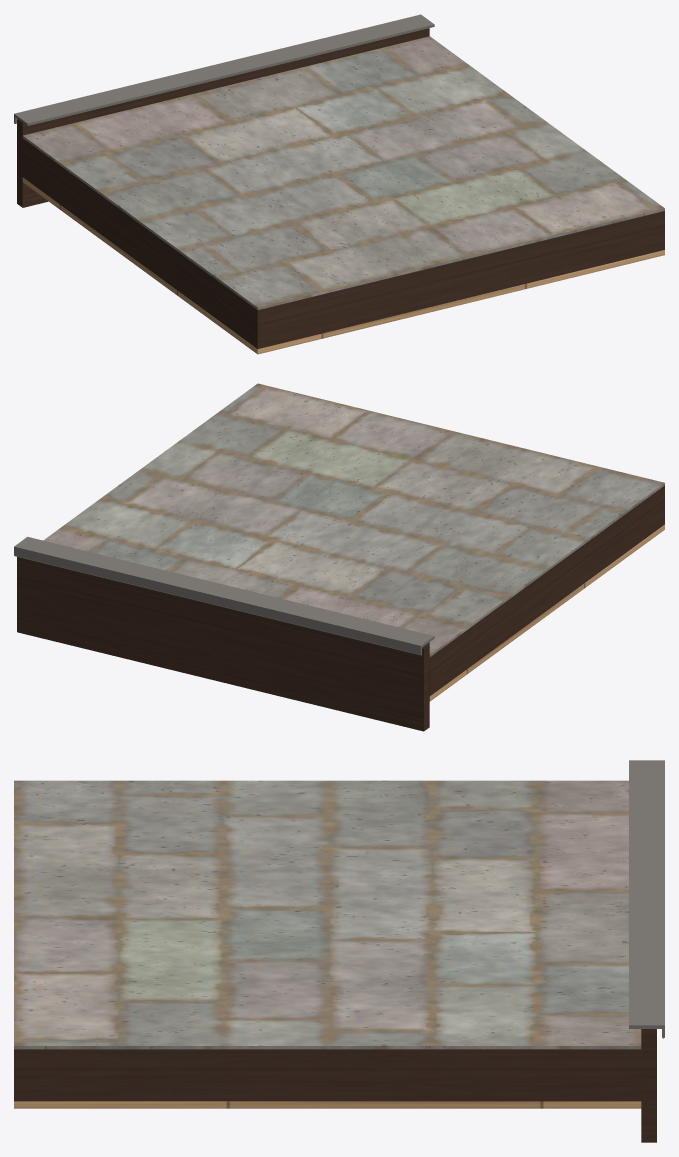
Rendered from deck_e0010.glb.
3 views of the same model, one above another, from view 1: azimuth 30°, elevation 25°; view 2: azimuth 150°, elevation 25°; view 3: azimuth 270°, elevation 25° (orthographic). The views are drawn at different scales.
Parts seen in each view (by area): view 1: deck_e0010_roofdeck, deck_e0010_fascia, deck_e0010_metal, deck_e0010_ceiling; view 2: deck_e0010_roofdeck, deck_e0010_fascia, deck_e0010_metal, deck_e0010_ceiling; view 3: deck_e0010_roofdeck, deck_e0010_fascia, deck_e0010_metal, deck_e0010_ceiling.
Boxes of the visible parts, <box> form: deck_e0010_roofdeck: <box>22,36,664,309</box>; deck_e0010_fascia: <box>17,28,664,348</box>; deck_e0010_metal: <box>14,14,434,125</box>; deck_e0010_ceiling: <box>22,177,664,354</box>; deck_e0010_roofdeck: <box>43,383,664,656</box>; deck_e0010_fascia: <box>17,485,664,731</box>; deck_e0010_metal: <box>14,536,434,655</box>; deck_e0010_ceiling: <box>429,524,664,701</box>; deck_e0010_roofdeck: <box>14,780,641,1049</box>; deck_e0010_fascia: <box>14,1029,656,1142</box>; deck_e0010_metal: <box>629,760,664,1038</box>; deck_e0010_ceiling: <box>14,1101,641,1108</box>.
Size of the model in its own units: 2 by 0.412 by 2.08.
Materials: 4 (3 with a texture image).
